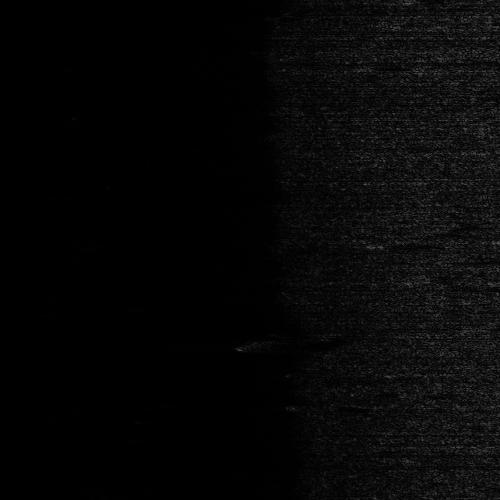rock: (459, 323, 500, 328)
shadow: (480, 323, 500, 328)
